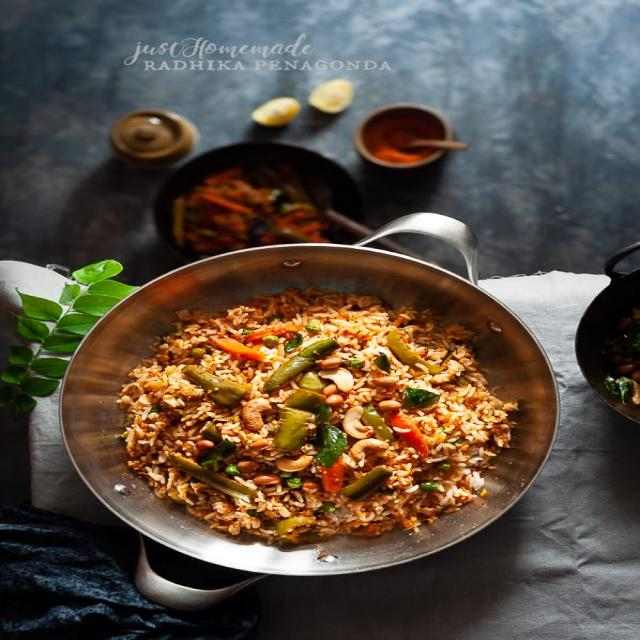vangi bath: (97, 274, 541, 563)
